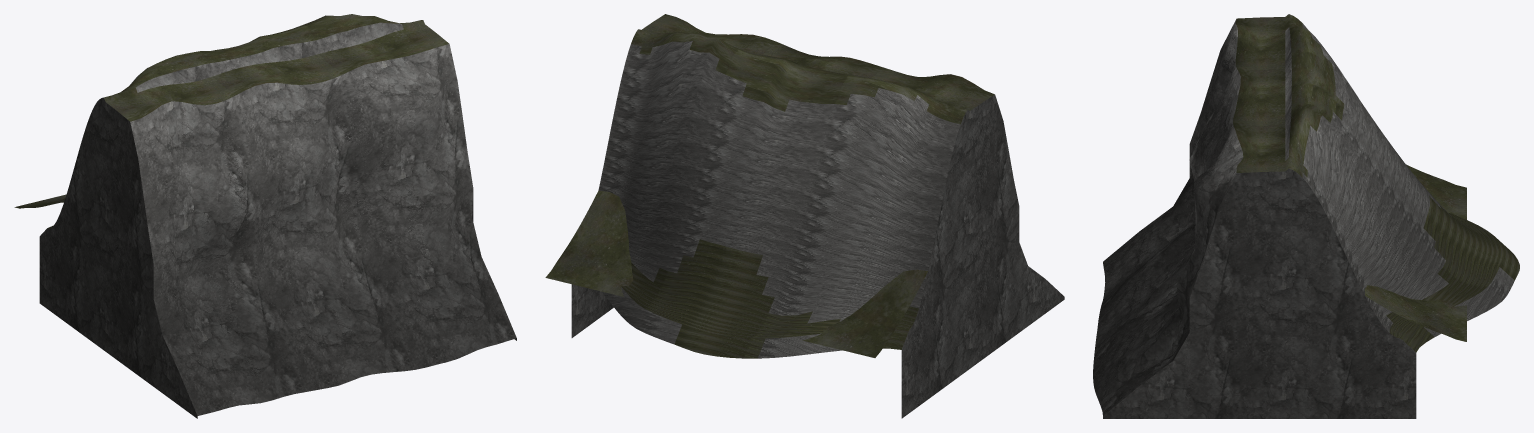
The model's file is seacliff_straight6b_h3_v5_summer.glb.
3 renders of one model, left to right at view 1: azimuth 30°, elevation 25°; view 2: azimuth 150°, elevation 25°; view 3: azimuth 270°, elevation 25°, orthographic. The views are drawn at different scales.
Parts seen in each view (by area): view 1: seacliff_straight6b_h3; view 2: seacliff_straight6b_h3; view 3: seacliff_straight6b_h3.
Part boxes in pixels (bbox=[...]): seacliff_straight6b_h3: bbox=[14, 14, 516, 418]; seacliff_straight6b_h3: bbox=[545, 14, 1064, 418]; seacliff_straight6b_h3: bbox=[1093, 14, 1519, 418].
Bounding box in the file's own units: 6 × 4.87 × 7.
Materials: 2 (2 with a texture image).
